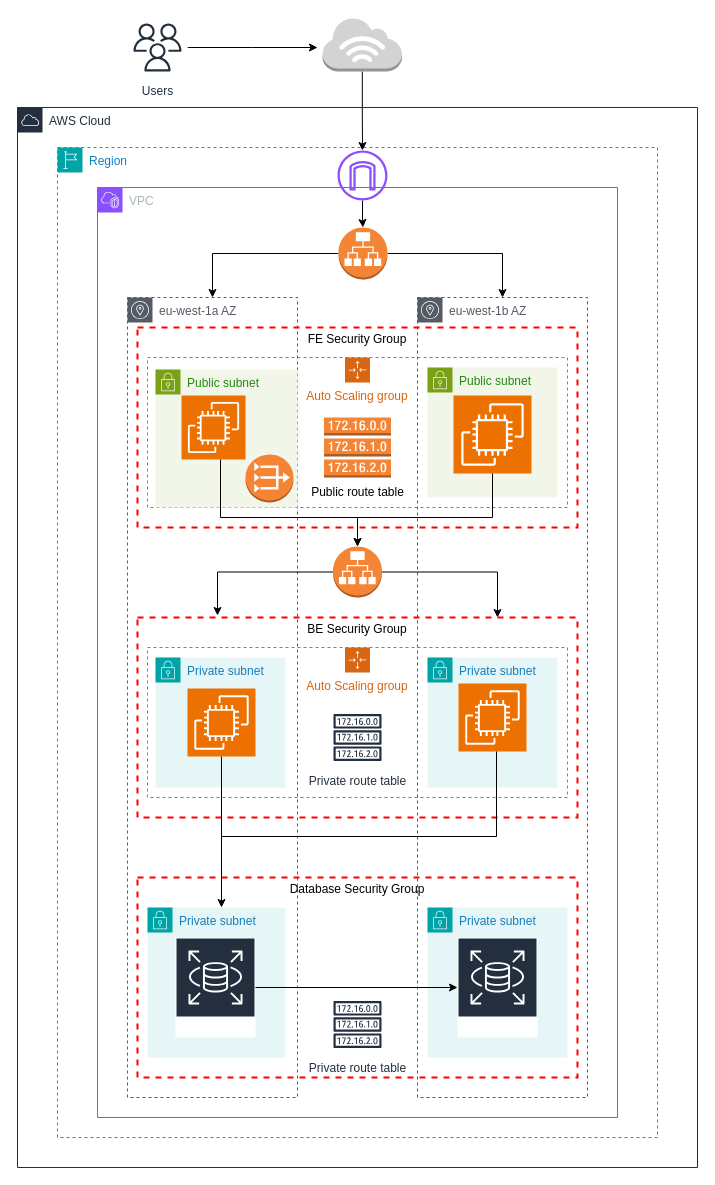
This 715x1185 diagram has some shape labels left out. Here are the shapes that lost their labels. From the top down, the centre of each, then its label:
the point at 362,44: Public Internet
the point at 362,175: Internet Gateway
the point at 363,253: ALB
the point at 215,987: Amazon RDS
the point at 497,987: Read Replica
